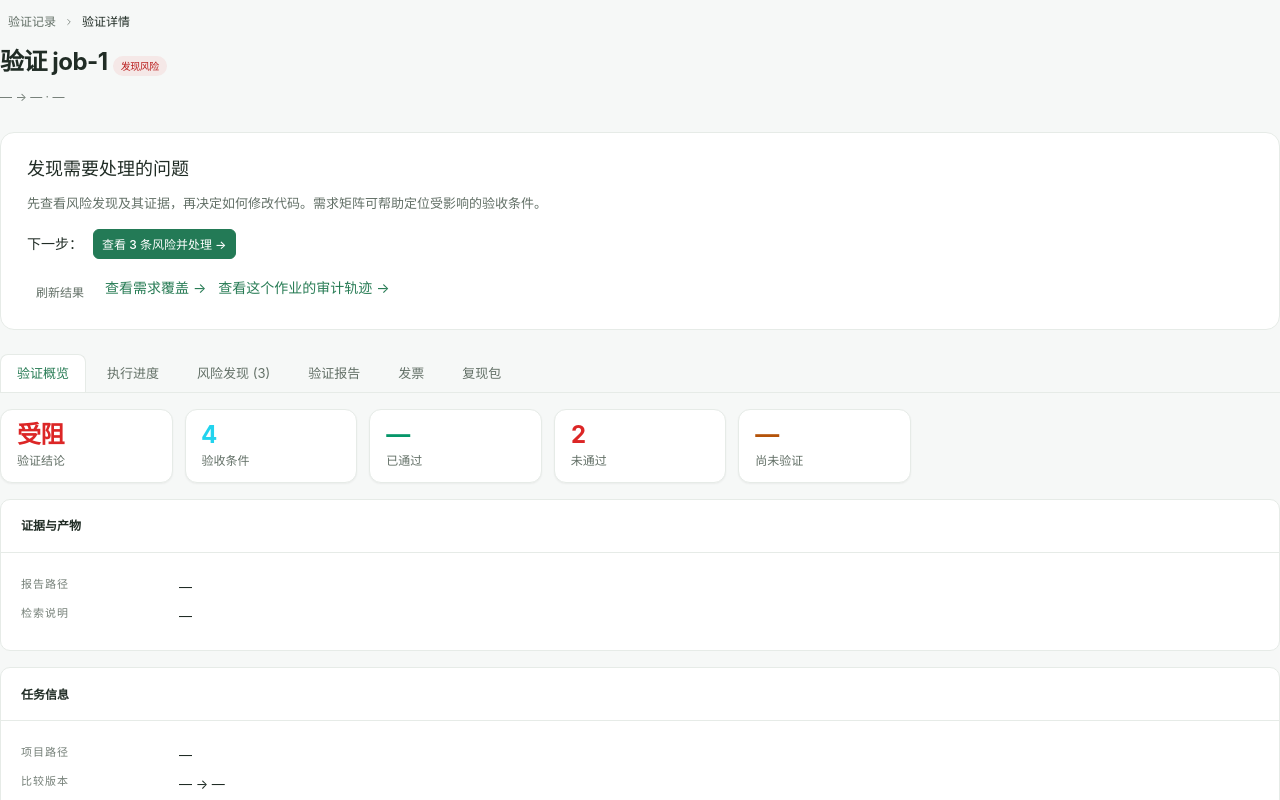
Test: verification lifecycle › offers a next-step action that jumps to the risks when blocked with findings
Check: the text "验证结论" is shown, box [17,452,65,468]
Step 1. Click the button "查看 3 条风险并处理 →" → (164, 244), box [93,229,236,259]
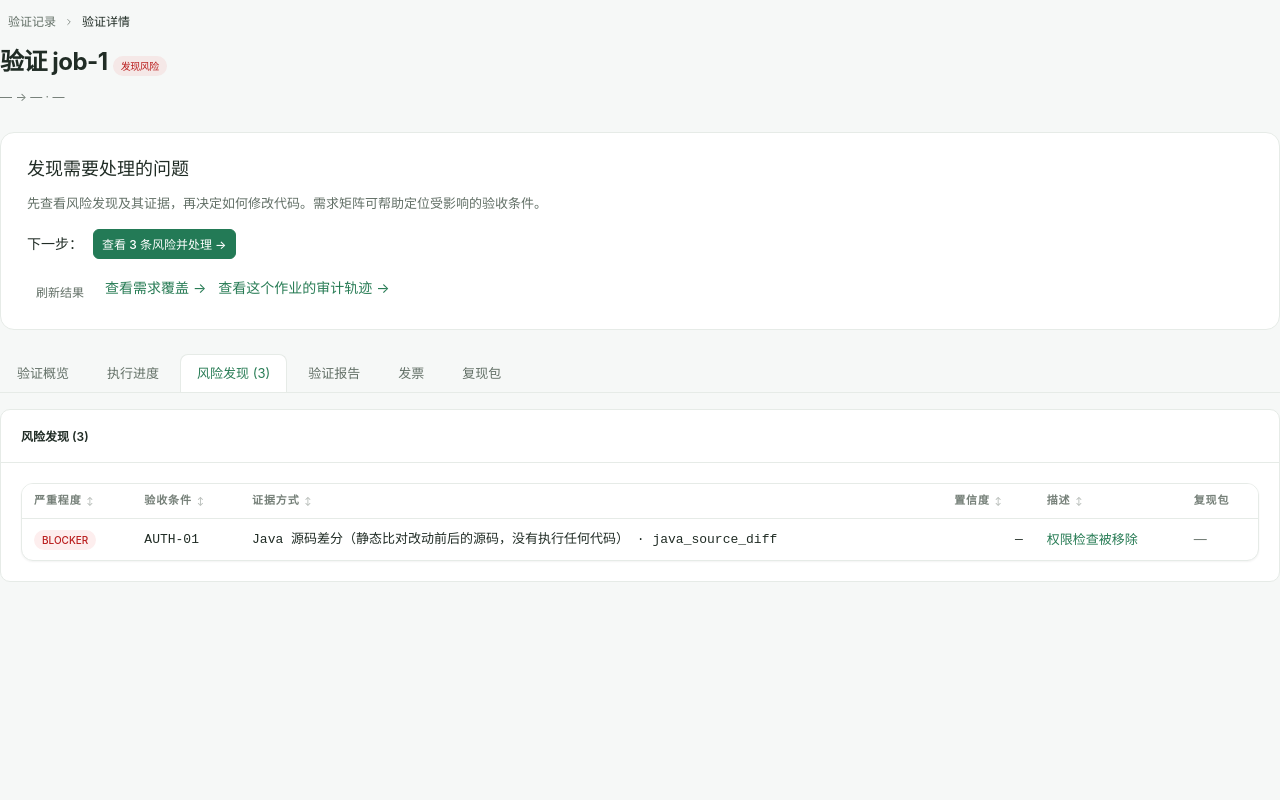
Check: the text "验证结论" is gone
Check: the button "严重程度 ↕" is shown, box [34,492,94,510]
Check: the text "Java 源码差分（静态比对改动前后的源码，没有执行任何代码） · java_source_diff" is shown, box [252,532,777,547]
